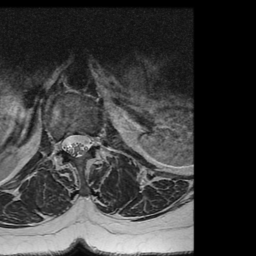CCS_normal: (71, 125, 81, 163)
LFS_normal: (92, 128, 100, 152)
LLS_normal: (81, 126, 92, 157)
RFS_normal: (54, 131, 62, 158)
RLS_normal: (62, 127, 71, 159)
